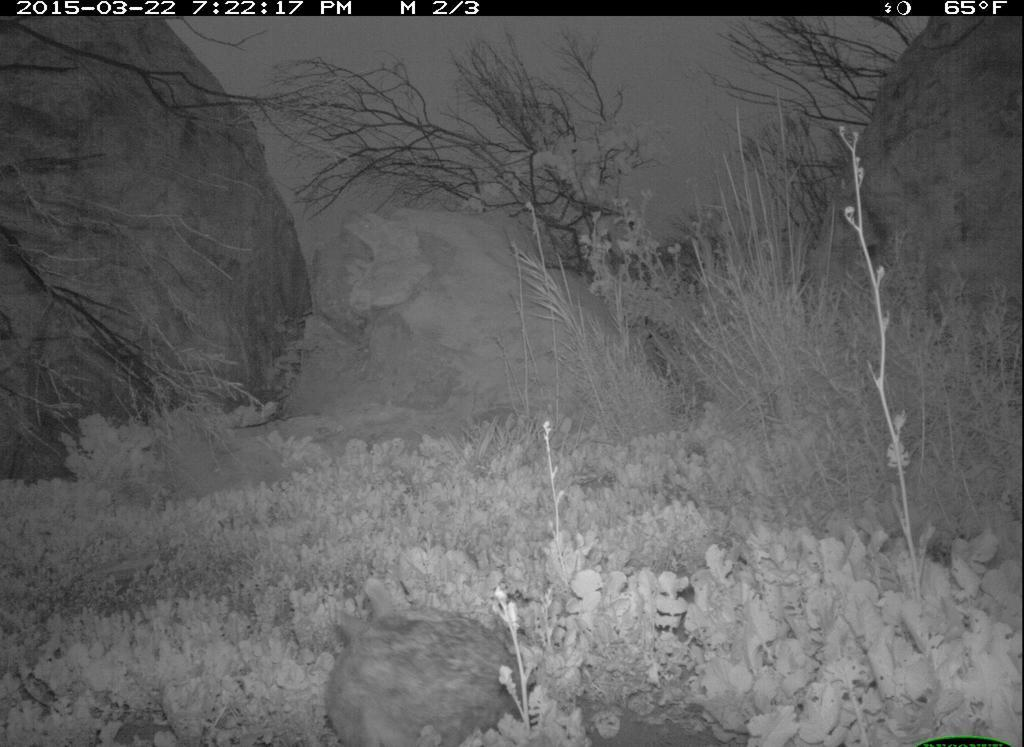rabbit: (322, 577, 532, 745)
